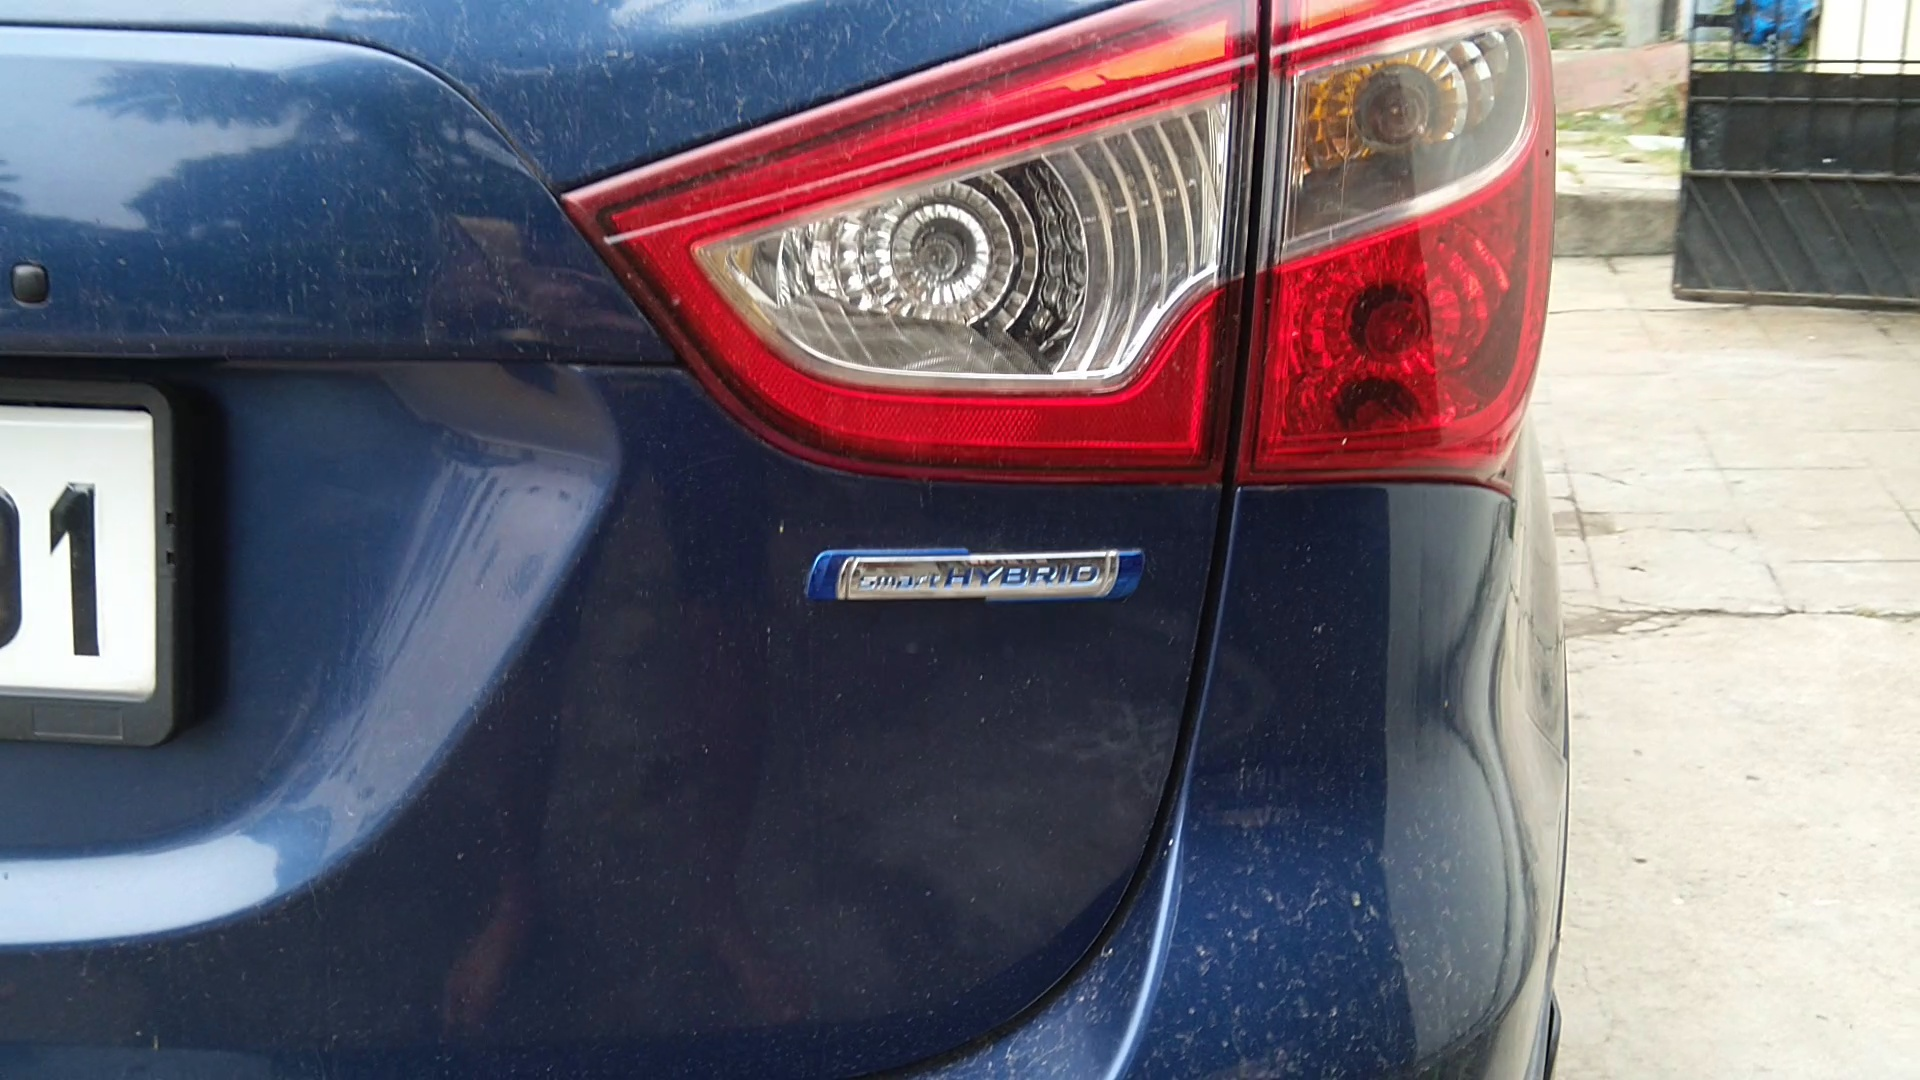shvs: (794, 516, 1171, 650)
